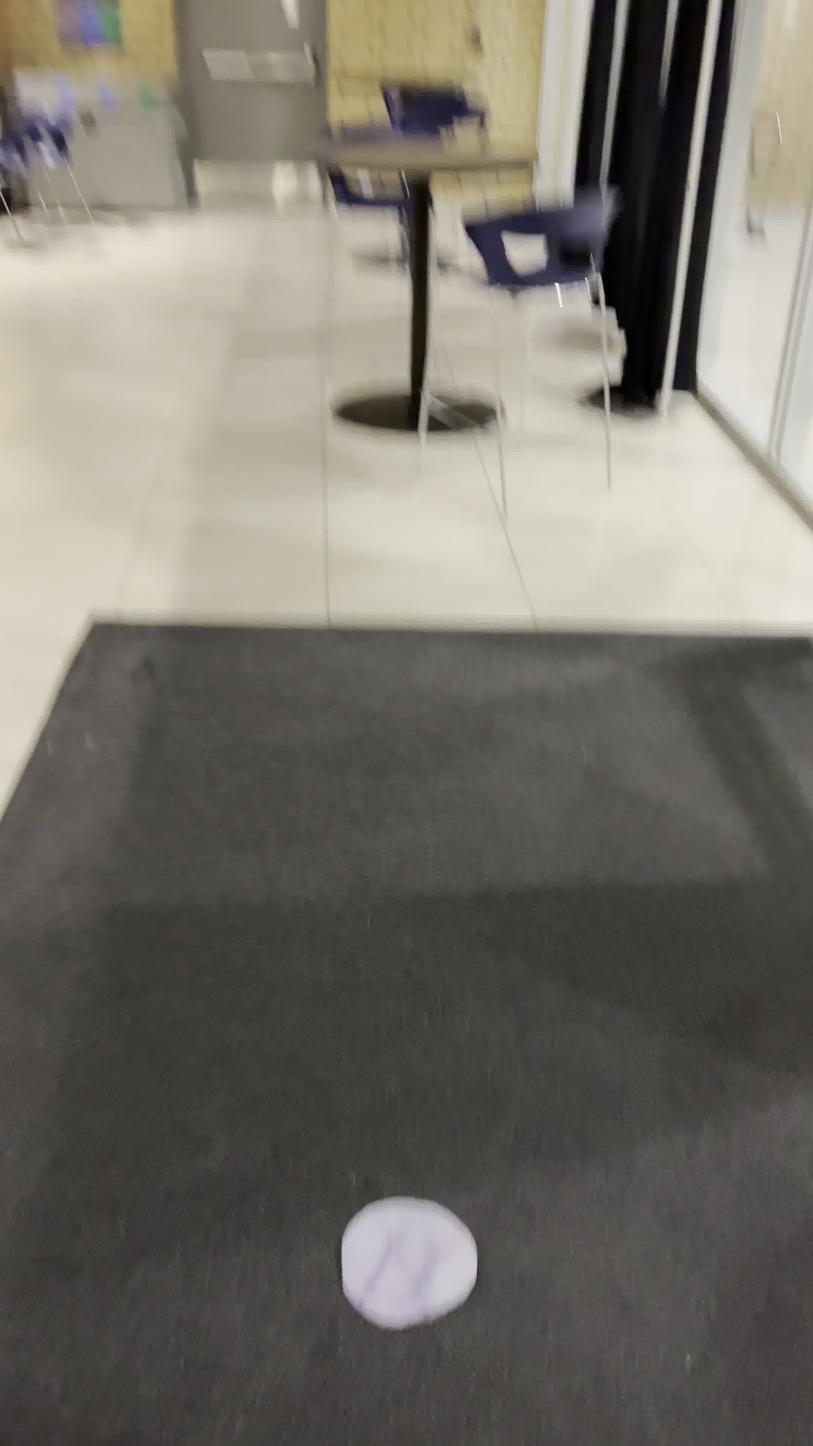Target: (335, 1192, 481, 1331)
